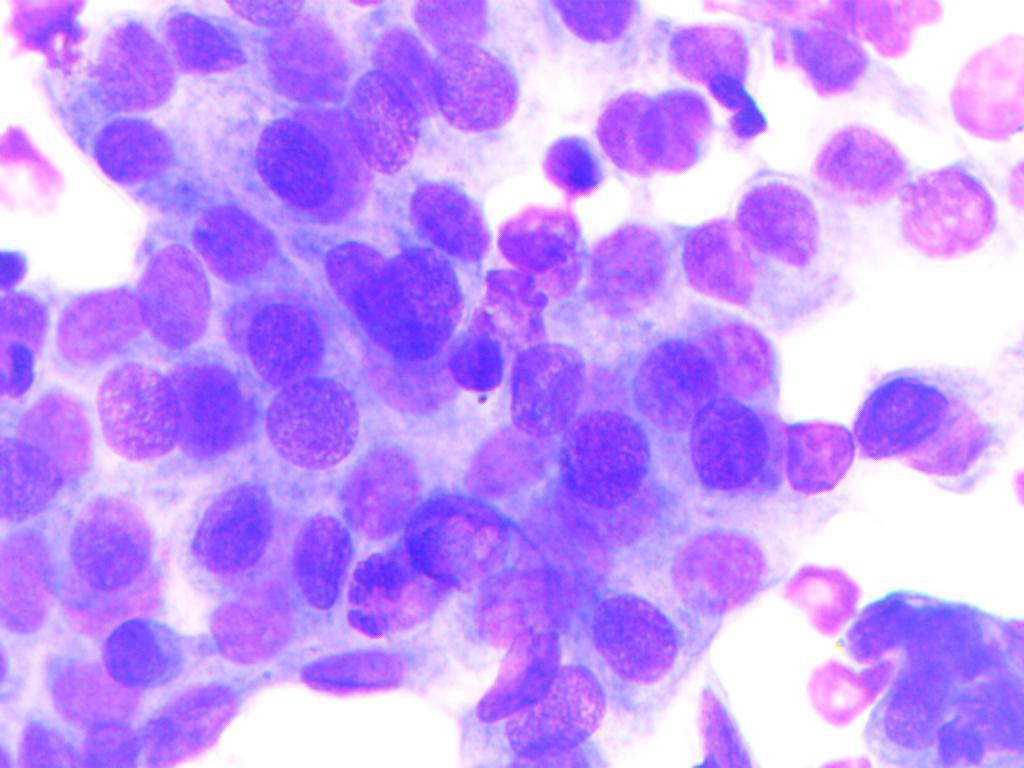artifact: (863, 580, 1024, 768), (739, 0, 954, 90), (939, 4, 1024, 152), (292, 638, 453, 704), (143, 681, 254, 768), (671, 671, 764, 768), (3, 0, 103, 81), (2, 713, 147, 768), (807, 650, 893, 736), (789, 552, 860, 644)
epithelial: (357, 232, 461, 370), (402, 469, 507, 589), (241, 104, 341, 229), (185, 470, 293, 584), (656, 525, 786, 619), (334, 526, 437, 640), (468, 610, 566, 728), (497, 324, 587, 450), (67, 474, 164, 590), (422, 27, 523, 138), (724, 164, 818, 281), (847, 359, 948, 466), (629, 69, 721, 184), (498, 661, 604, 760), (89, 351, 177, 466), (808, 118, 905, 222), (84, 9, 179, 111), (334, 57, 415, 176), (588, 583, 684, 683), (132, 232, 209, 356), (491, 208, 598, 297), (257, 377, 361, 468), (89, 609, 193, 699), (471, 561, 579, 647), (558, 406, 648, 509), (76, 109, 182, 196), (579, 209, 664, 317), (249, 19, 357, 104), (904, 165, 999, 261), (396, 174, 497, 262), (0, 509, 59, 659), (632, 331, 721, 430), (676, 199, 758, 306), (362, 33, 456, 126), (286, 489, 354, 617), (174, 358, 250, 472), (150, 2, 249, 89), (0, 241, 51, 409), (336, 435, 421, 535), (686, 395, 768, 497), (51, 272, 143, 360), (239, 296, 329, 381), (591, 74, 663, 177), (185, 201, 284, 275), (310, 234, 397, 317), (784, 402, 850, 506), (36, 656, 144, 718), (0, 428, 60, 539), (203, 596, 287, 672), (671, 26, 770, 88), (558, 0, 662, 59), (392, 0, 504, 43), (212, 0, 327, 23)
metaplastic: (432, 326, 517, 396), (537, 139, 606, 198)
